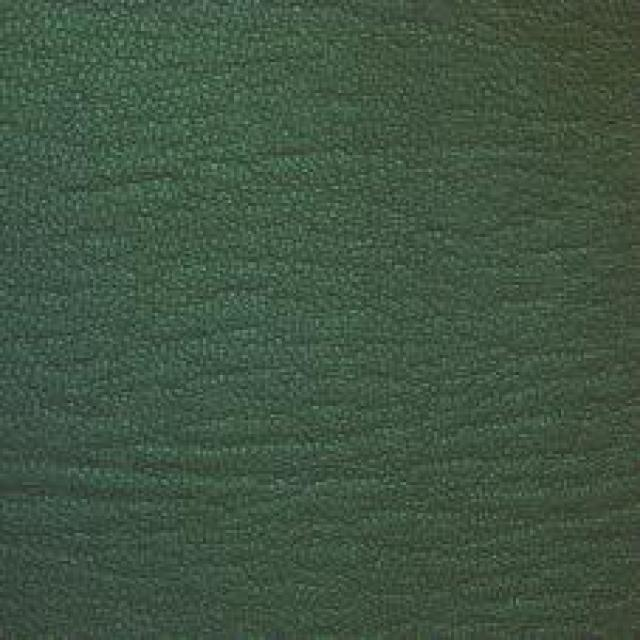Growth Marks: (32, 427, 329, 552), (64, 133, 293, 218)
